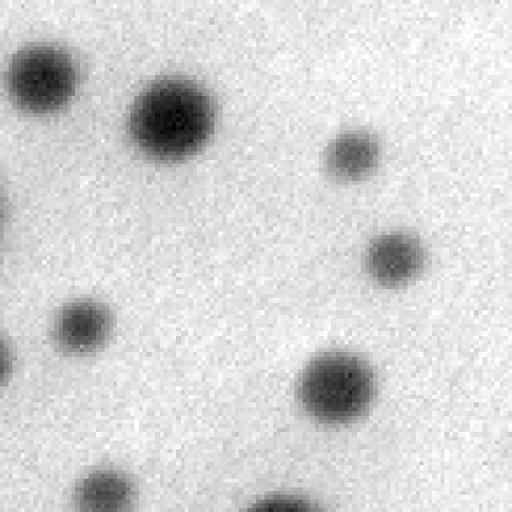Nanoparticles: (128, 70, 218, 172), (290, 342, 390, 433), (3, 36, 86, 126), (360, 222, 426, 298), (45, 292, 116, 356), (322, 122, 392, 186), (68, 456, 144, 512), (241, 484, 324, 512), (0, 326, 22, 386)
